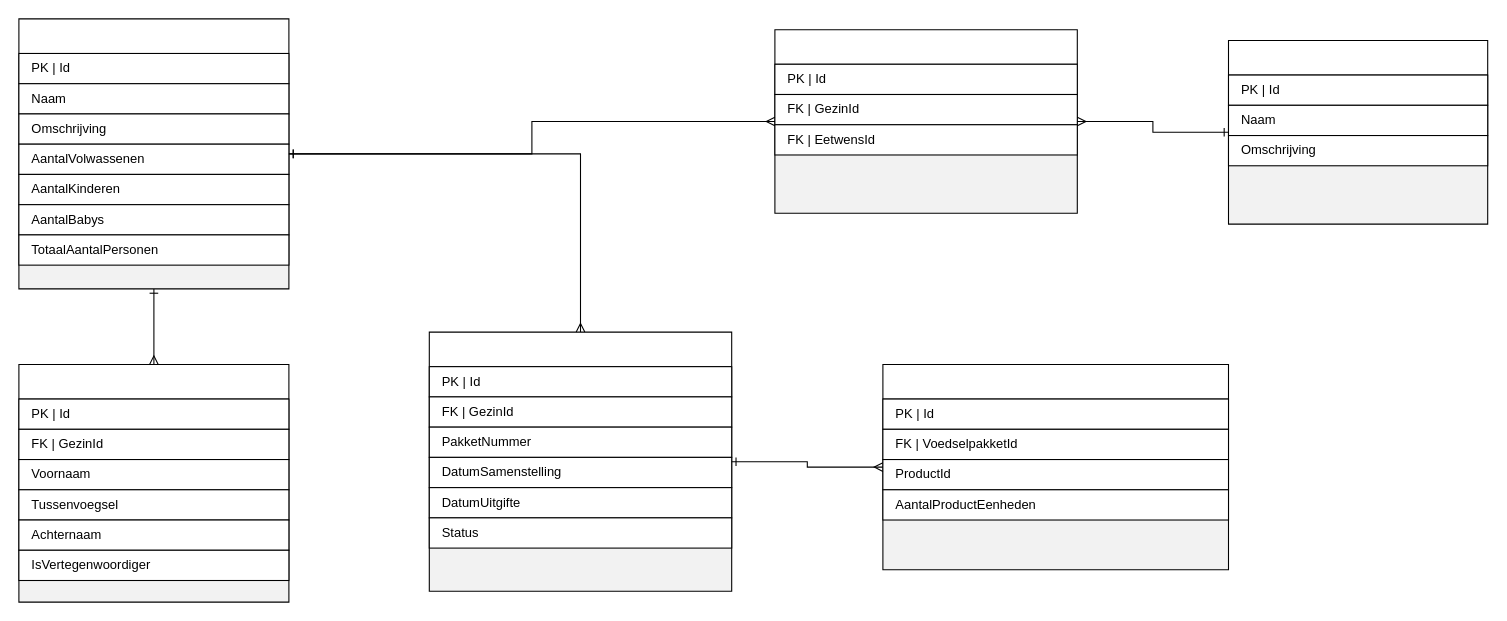
Image size: 1507x621. Some labels were removed from this diagram. Here are the shapes that lost their labels. From the top down, the box of each, then its label:
(774, 29, 1077, 213): EetwensPerGezin
(1227, 39, 1488, 224): Eetwens
(18, 18, 289, 289): Gezin
(428, 331, 732, 591): Voedselpakket
(882, 363, 1228, 570): ProductPerVoedselPakket
(18, 363, 289, 602): Persoon
